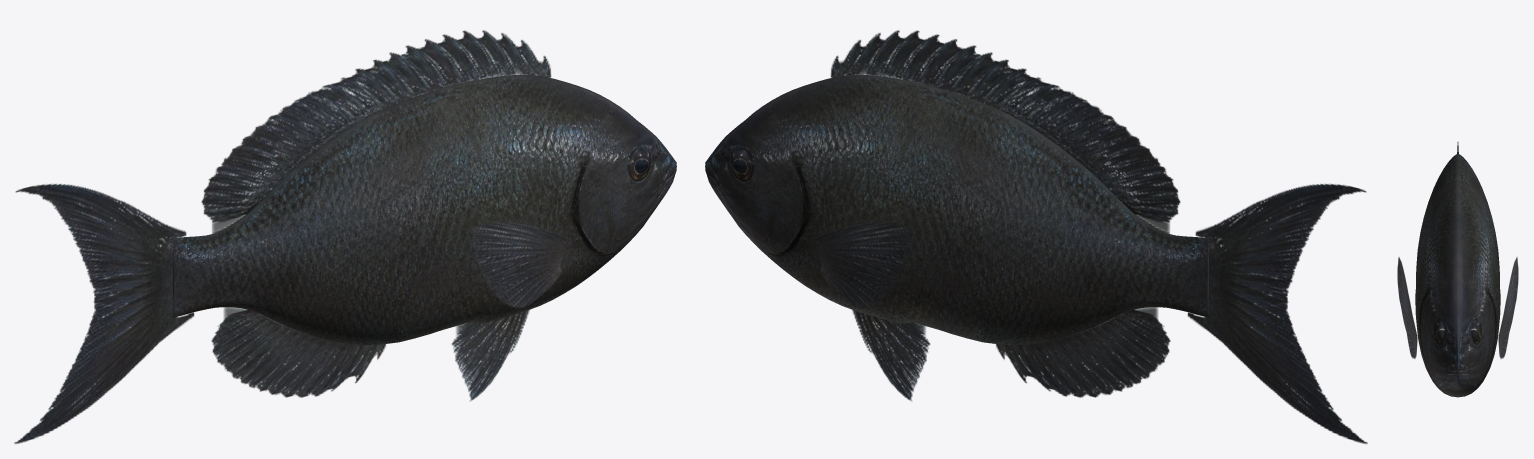
The model's file is onagagure.glb.
The picture shows the model from 3 angles, left to right: view 1: azimuth 30°, elevation 25°; view 2: azimuth 150°, elevation 25°; view 3: azimuth 270°, elevation 25°; orthographic projection. The views are drawn at different scales.
Parts seen in each view (by area): view 1: onagagure; view 2: onagagure; view 3: onagagure.
Boxes of the visible parts, bbox=[...] form: onagagure: bbox=[14, 30, 676, 443]; onagagure: bbox=[705, 30, 1367, 443]; onagagure: bbox=[1397, 142, 1518, 397].
Size of the model in its own units: 0.4507 by 0.2428 by 0.0944.
Materials: 1 (1 with a texture image).
